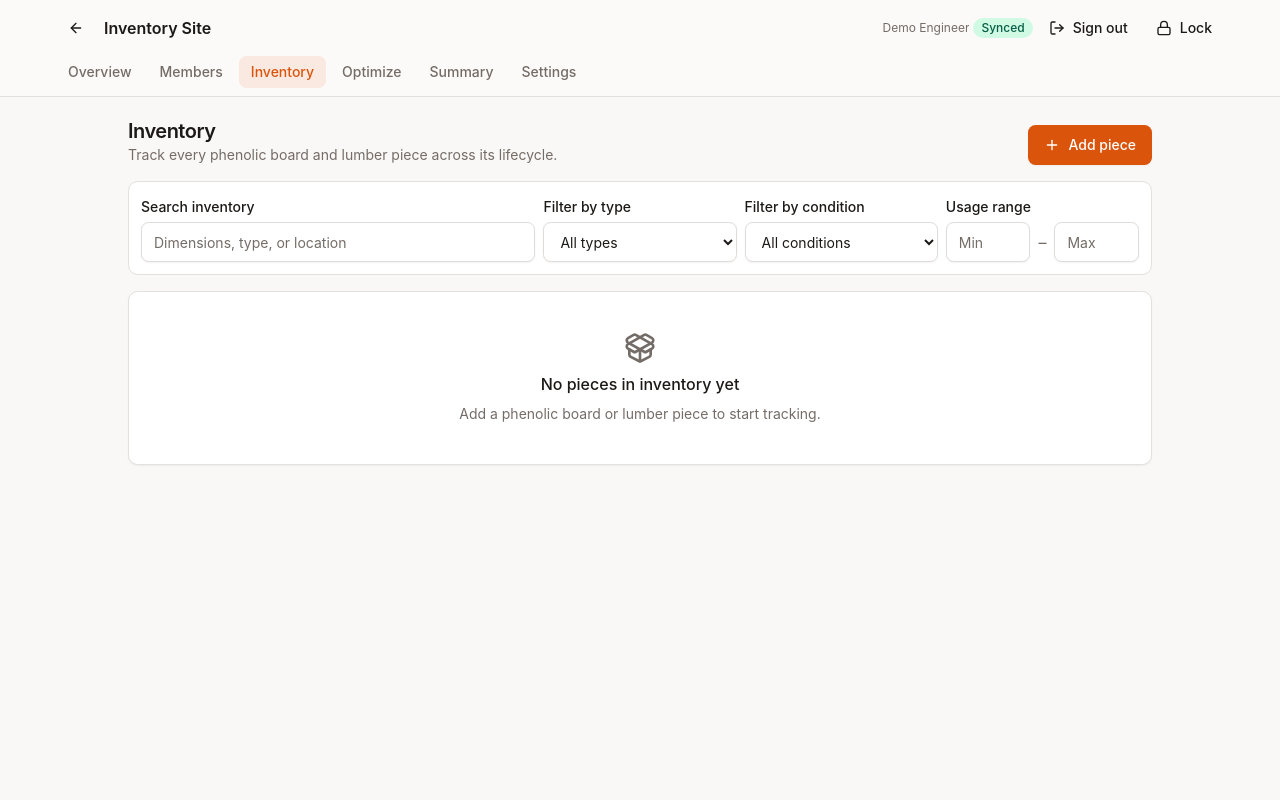
Test: ProjectInventoryScreen › adds a phenolic piece through the form and lists it with its details
expect the heading "Inventory" is shown: met, box [128,119,215,143]
Click the button "Add piece" at [1090, 145], box [1028,125,1152,165]
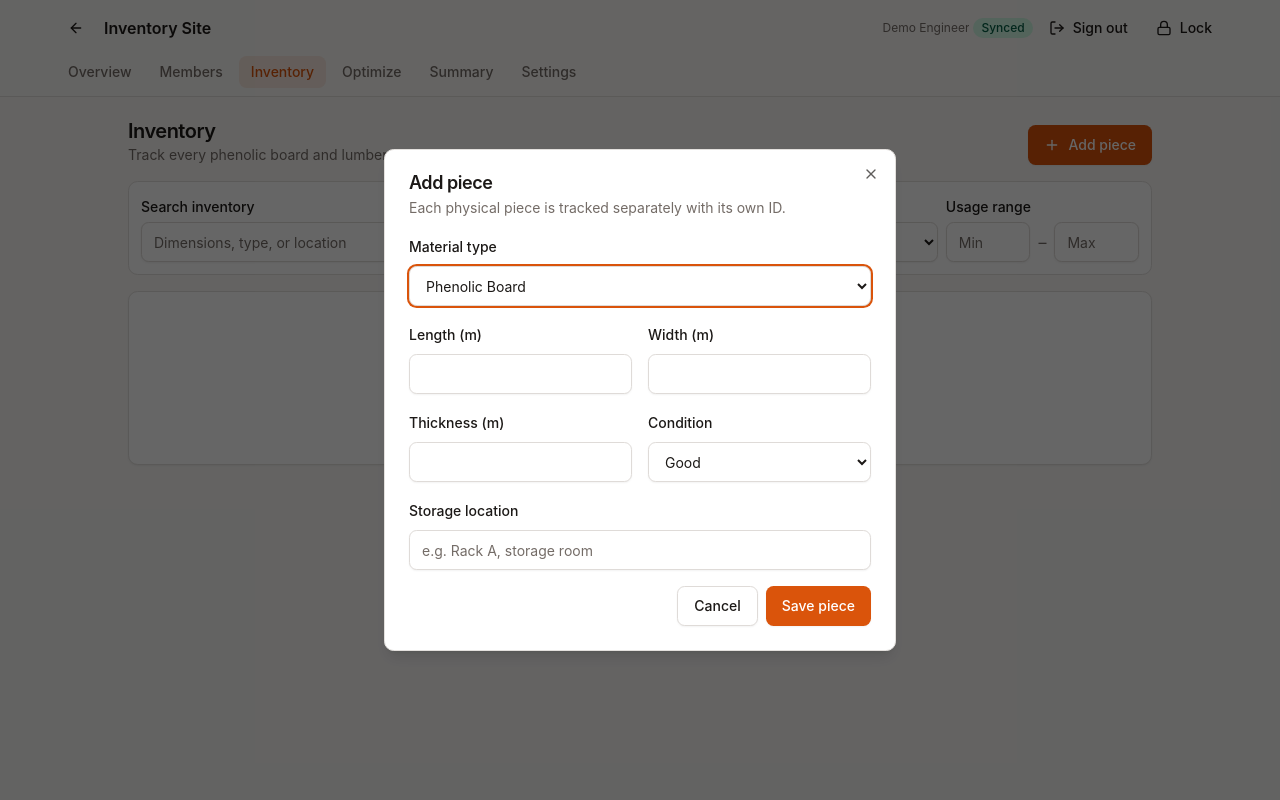
Select "Phenolic Board" in the dropdown labelled "Material type" at [640, 286], box [409,266,871,306]
Type "1.22" into the number field labelled "Length (m)" at [520, 374], box [409,354,632,394]
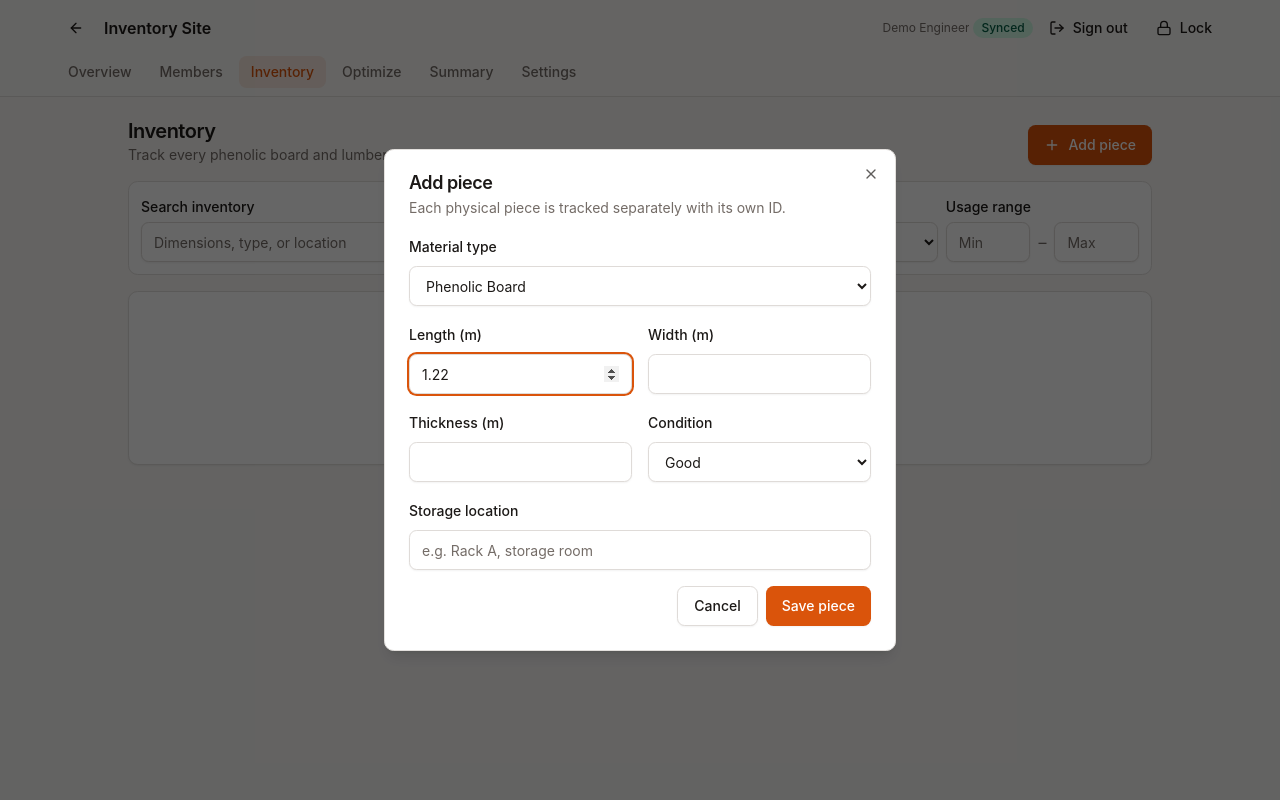
Type "2.44" into the number field labelled "Width (m)" at [760, 374], box [648,354,871,394]
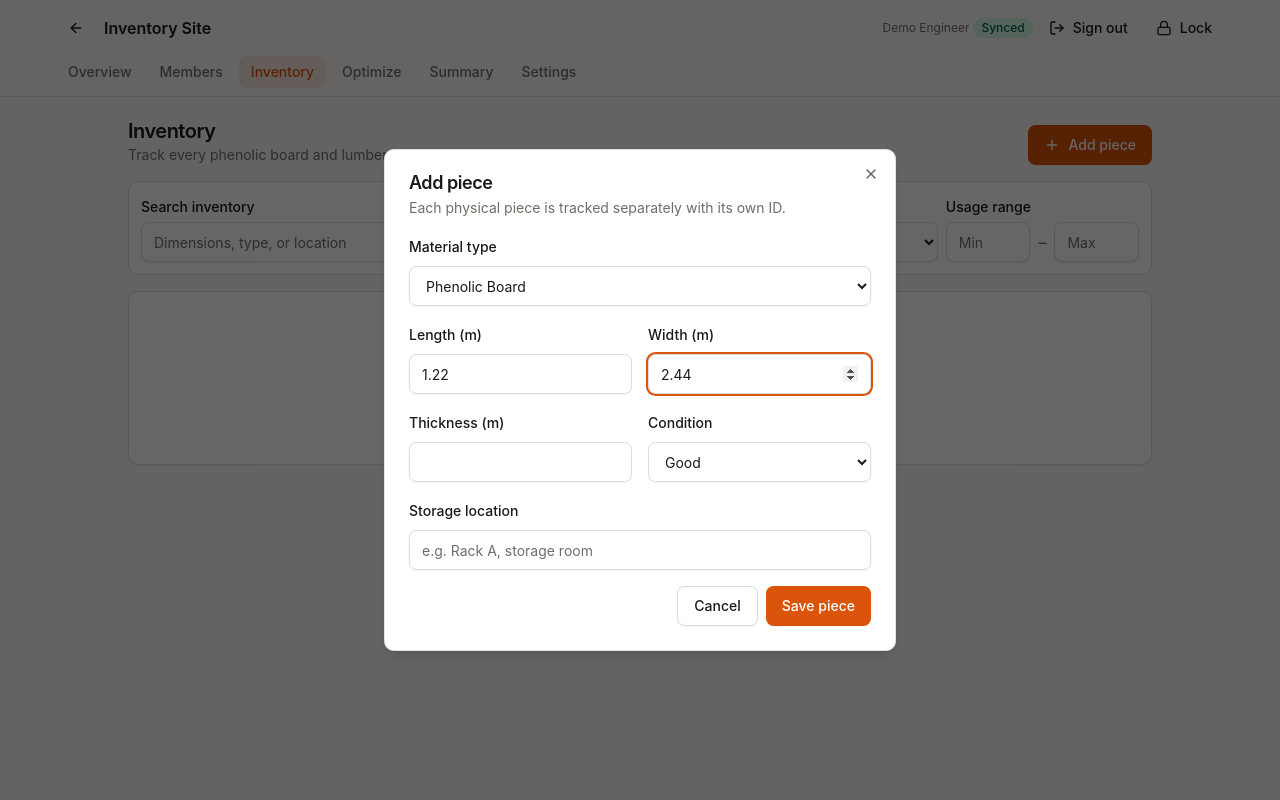
Type "0.018" into the number field labelled "Thickness (m)" at [520, 462], box [409,442,632,482]
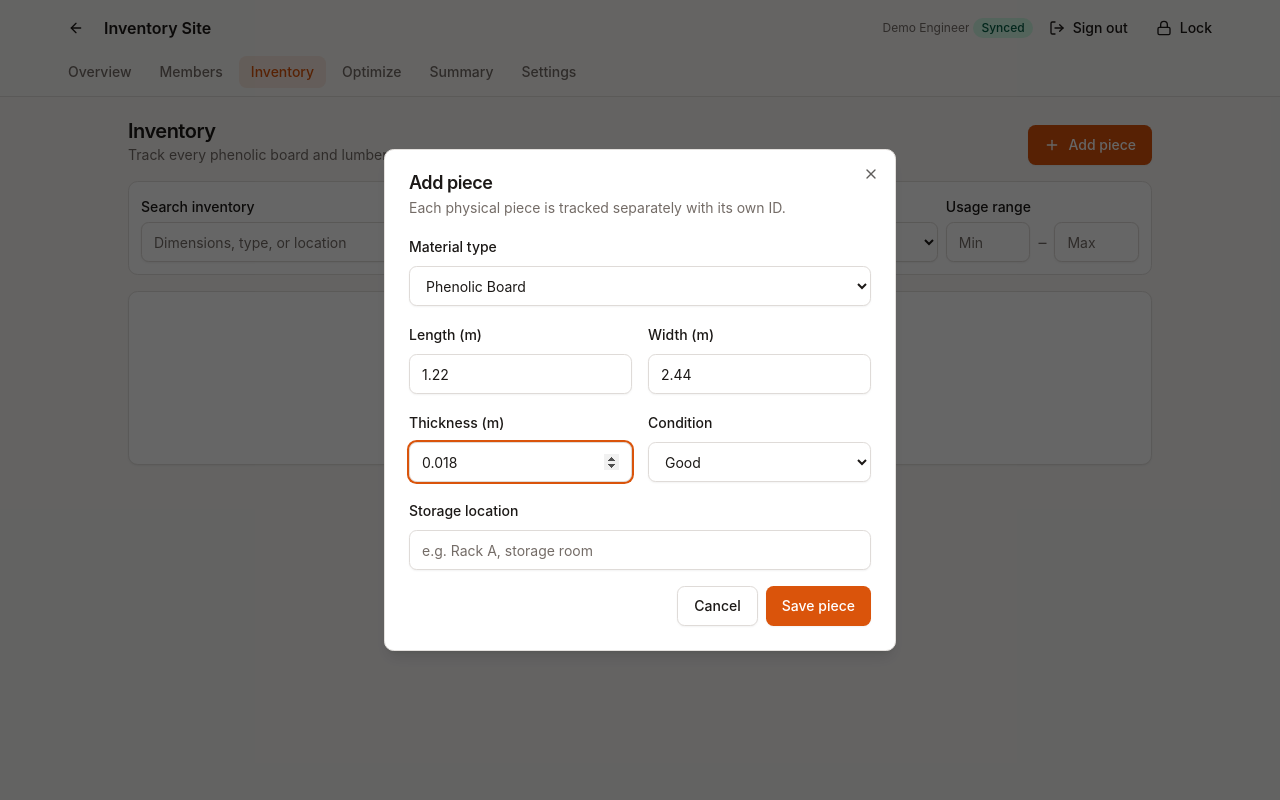
Type "Rack A" into the field labelled "Storage location" at [640, 550], box [409,530,871,570]
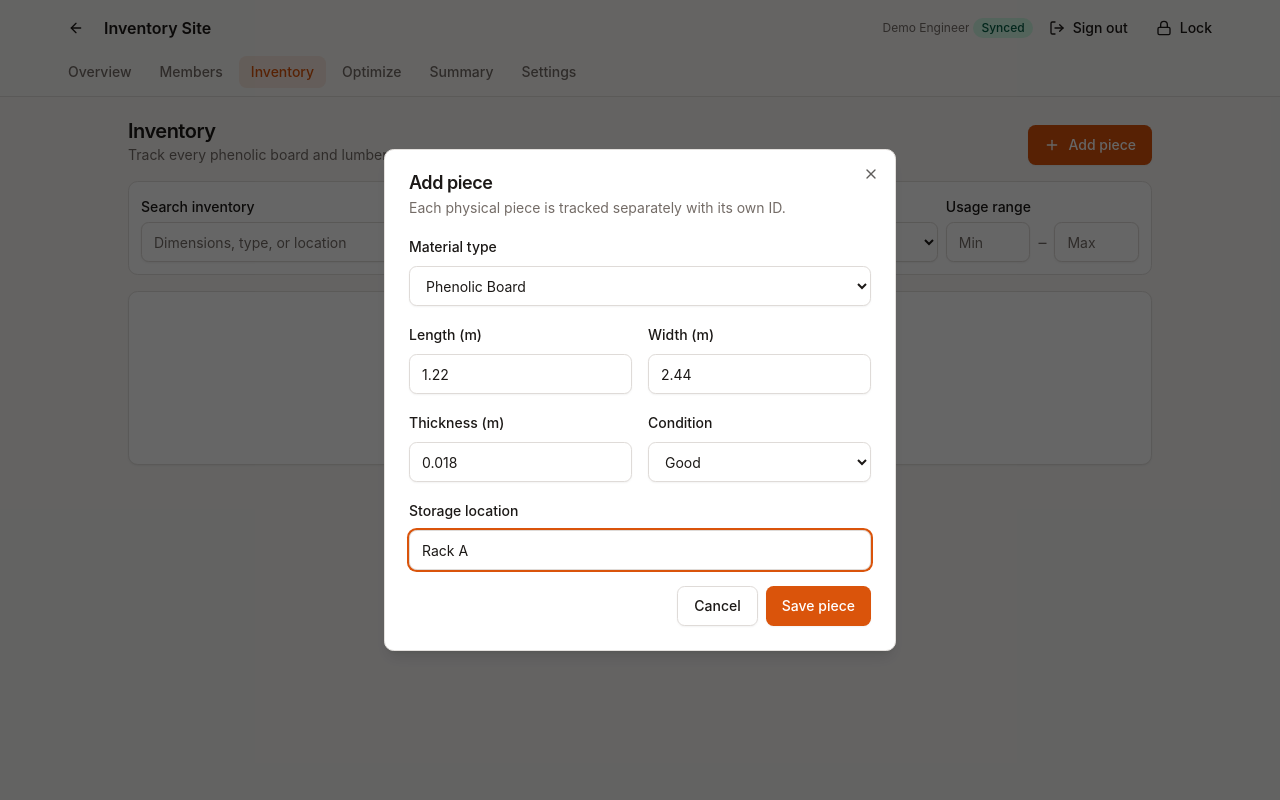
Click the button "Save piece" at [818, 606], box [766,586,871,626]
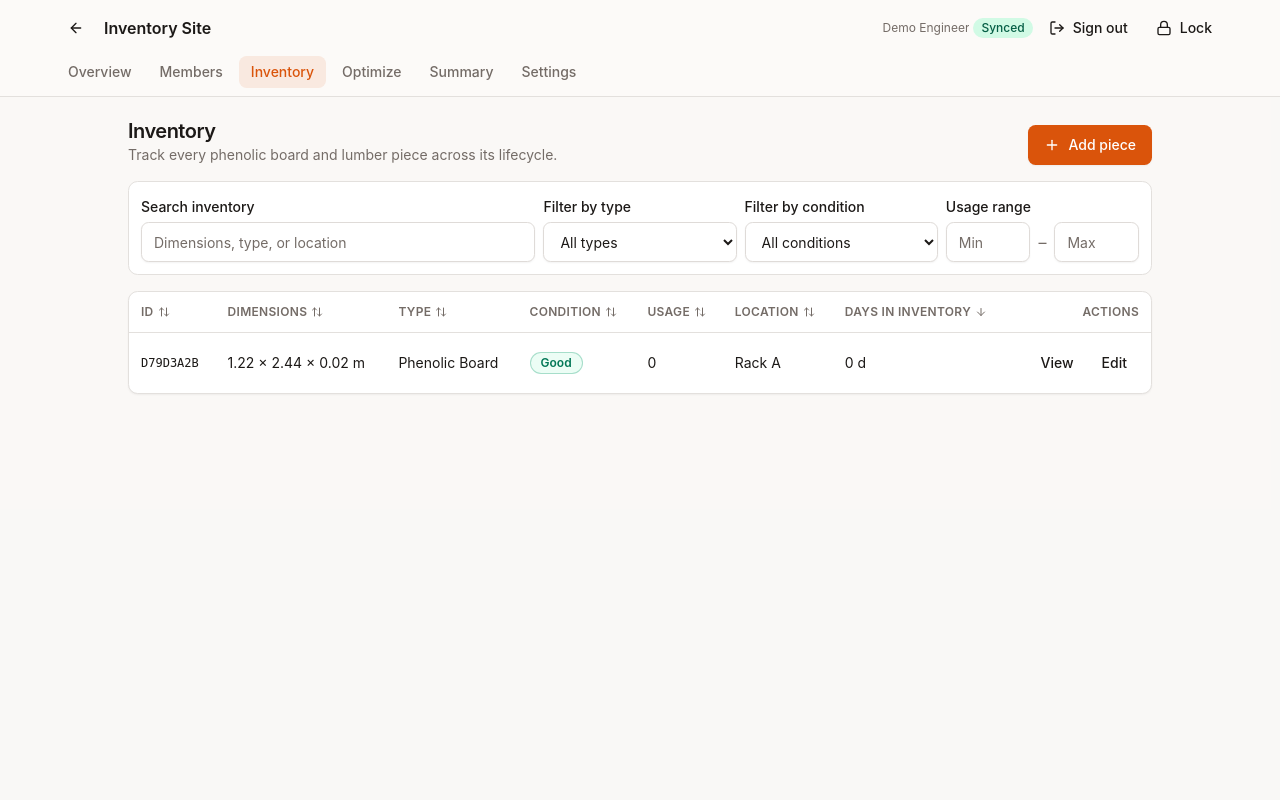
expect the text "1.22 × 2.44 × 0.02 m" is shown: met, box [216,332,386,392]
expect the text "Good" is shown: met, box [530,352,583,374]
expect the text "0" is shown: met, box [636,332,723,392]
